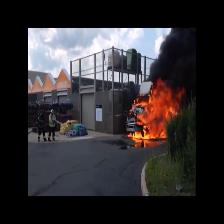fire: (137, 87, 176, 139)
smoke: (162, 34, 195, 87)
